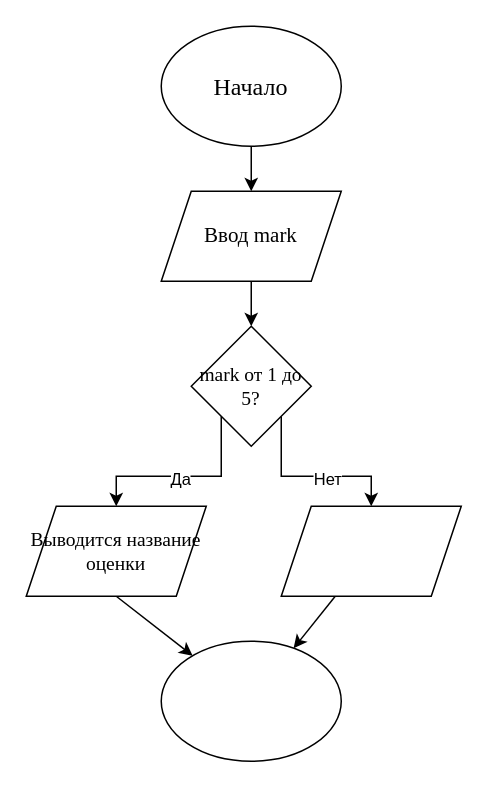
The diagram is 488 pixels wide and 788 high, and some of its shapes have lost their labels. Here are the shapes that lost their labels. From the top down, the centre of each, then its label:
the point at 370,550: Такой оценки нет
the point at 250,700: Конец
